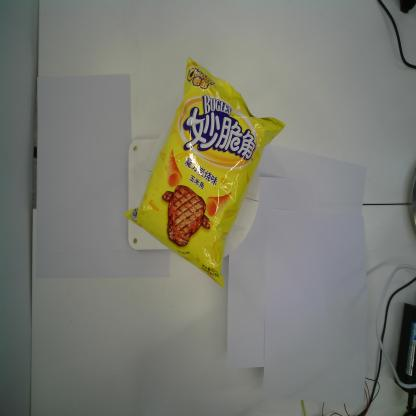Puffed Food: (122, 53, 287, 290)
